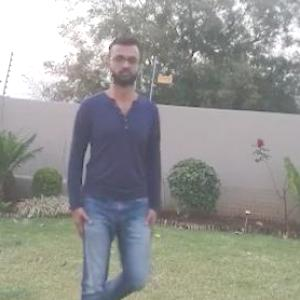follow: (72, 34, 173, 299)
